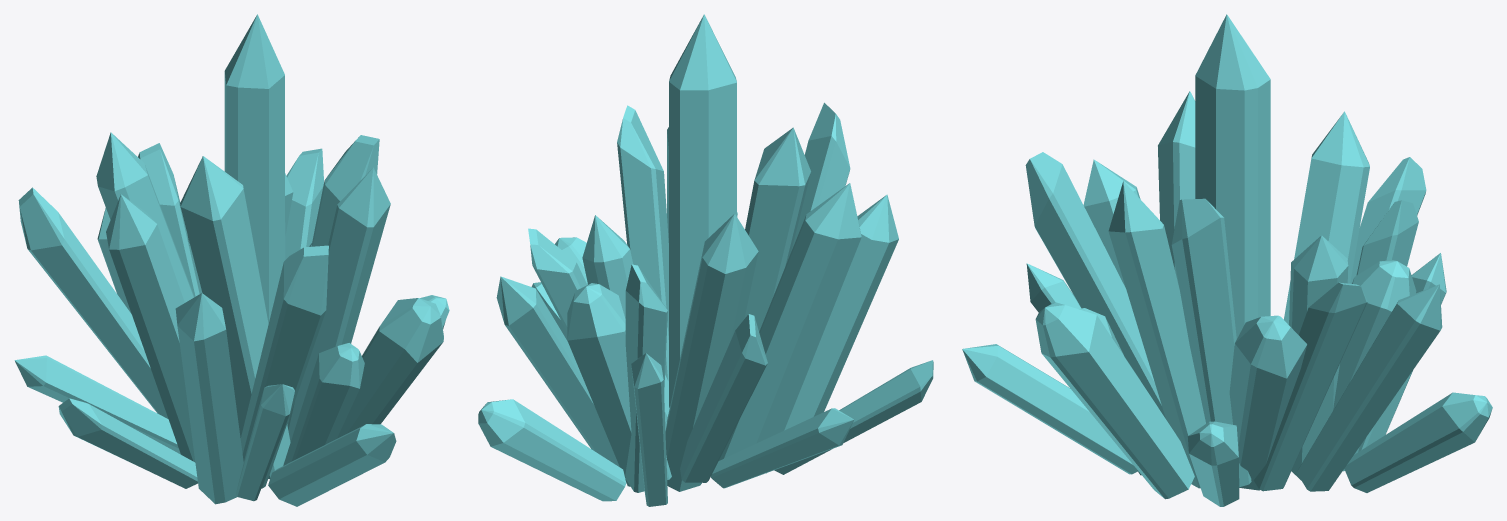
The model's file is crystals_4.fbx.
3 views of the same model, side by side, from view 1: azimuth 30°, elevation 25°; view 2: azimuth 150°, elevation 25°; view 3: azimuth 270°, elevation 25° (orthographic). The views are drawn at different scales.
Visible parts, largest first — view 1: polySurface4; view 2: polySurface4; view 3: polySurface4.
Part boxes in pixels (x1,y1,x2,y2): polySurface4: (14, 14, 449, 506); polySurface4: (478, 14, 933, 506); polySurface4: (962, 14, 1492, 506).
Size of the model in its own units: 16.87 by 18.42 by 19.07.
